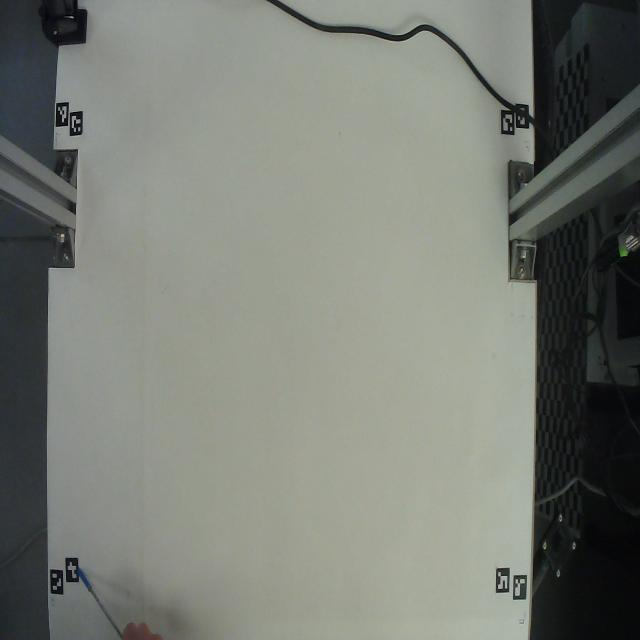Pres: (72, 524, 168, 640)
